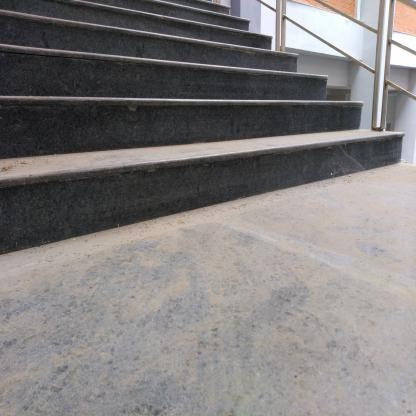stairs: (1, 34, 271, 228)
